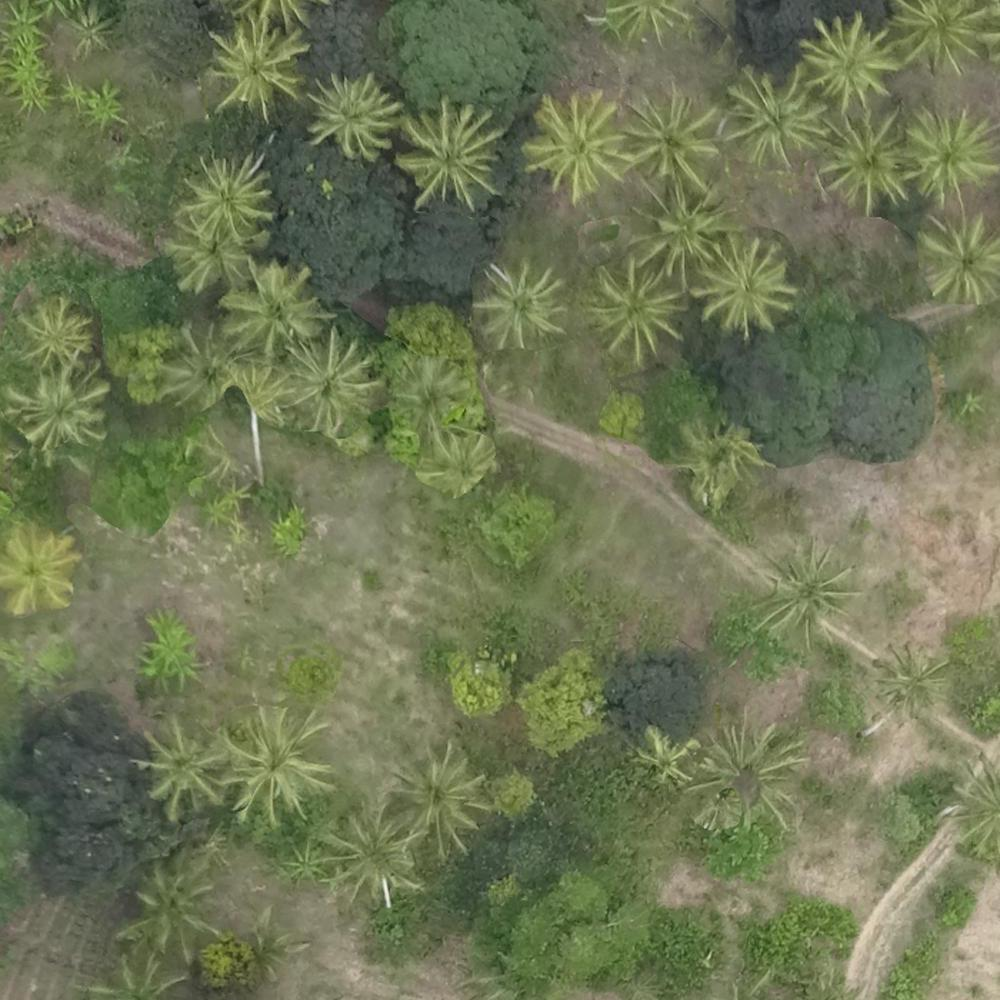Palm: (692, 721, 817, 841), (222, 707, 334, 817), (380, 747, 492, 856), (526, 93, 632, 196), (625, 177, 731, 277), (203, 15, 310, 114), (399, 97, 495, 206), (590, 254, 687, 360), (316, 802, 421, 899), (758, 546, 863, 643), (725, 65, 830, 161), (797, 12, 898, 108), (280, 336, 379, 433), (901, 102, 997, 202), (134, 713, 227, 816), (622, 84, 717, 182), (218, 260, 320, 350), (820, 111, 913, 208), (122, 863, 219, 956), (5, 369, 112, 452), (469, 258, 567, 348), (694, 240, 792, 329), (913, 211, 999, 304), (891, 1, 992, 80), (309, 72, 399, 158), (2, 525, 79, 619), (181, 154, 271, 234), (163, 217, 250, 299), (388, 352, 463, 439), (870, 643, 953, 719), (18, 296, 97, 375), (636, 724, 694, 789)
